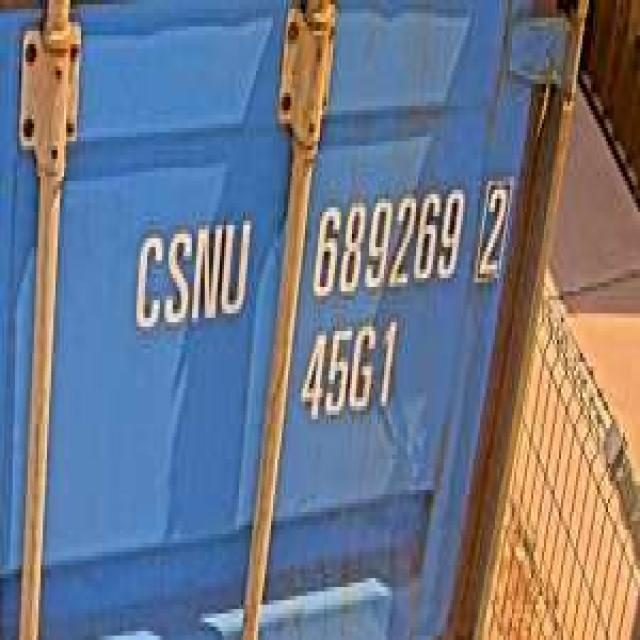dv: (473, 169, 516, 298)
owner: (120, 178, 261, 360)
serial: (306, 173, 468, 311)
size: (292, 314, 404, 436)
